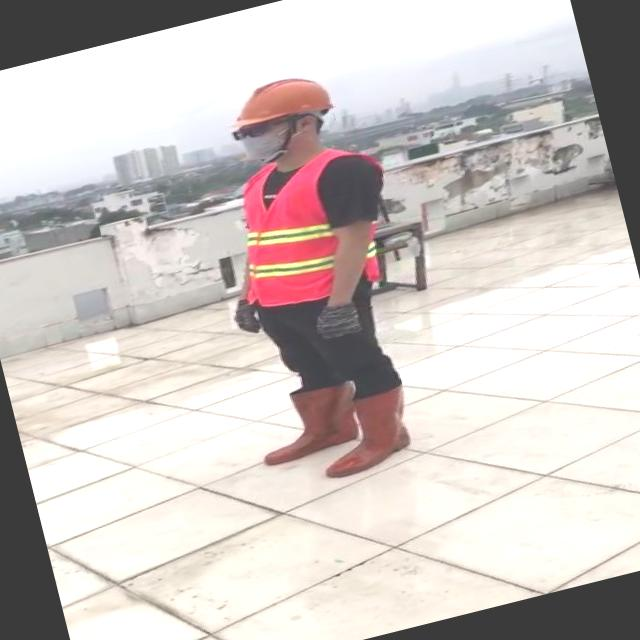boots: (306, 378, 427, 482), (270, 373, 365, 463)
gloves: (302, 275, 368, 348), (213, 279, 266, 340)
helmet: (226, 64, 338, 132)
vest: (222, 140, 409, 312)
